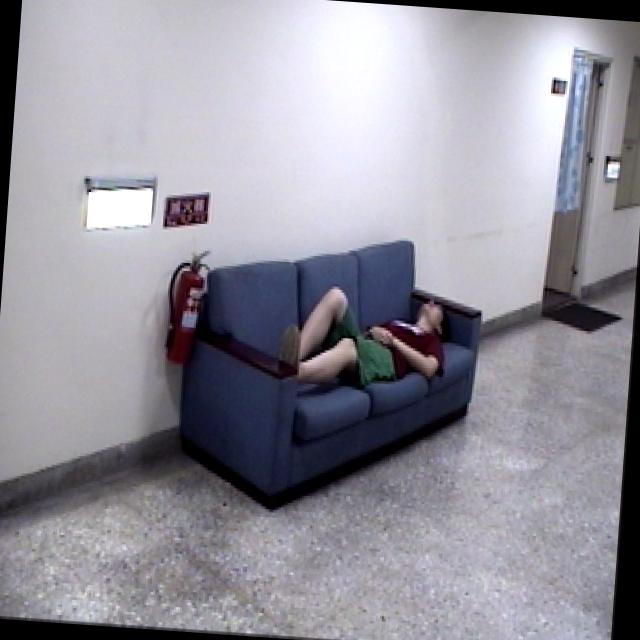lie: (262, 276, 450, 388)
